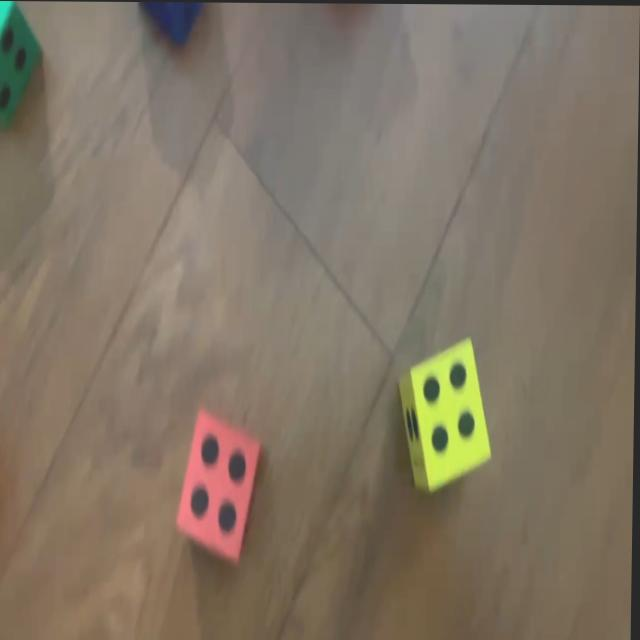cube: (178, 408, 265, 559), (0, 0, 44, 128), (145, 1, 198, 40)
